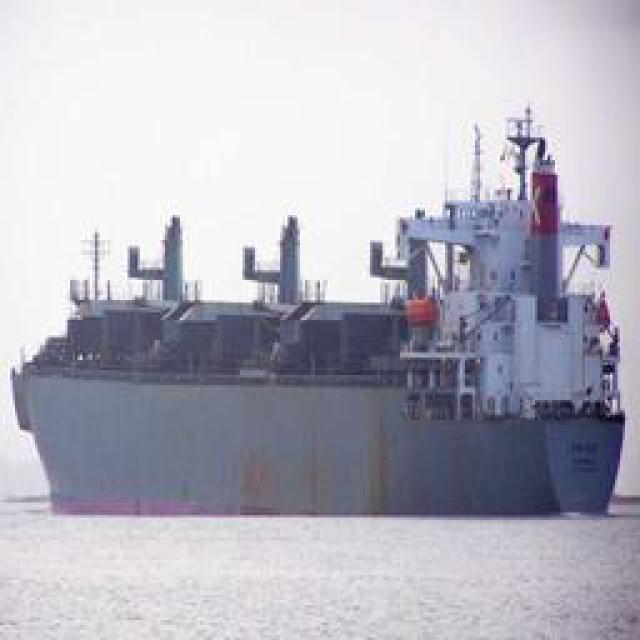Ship: (14, 145, 629, 520)
